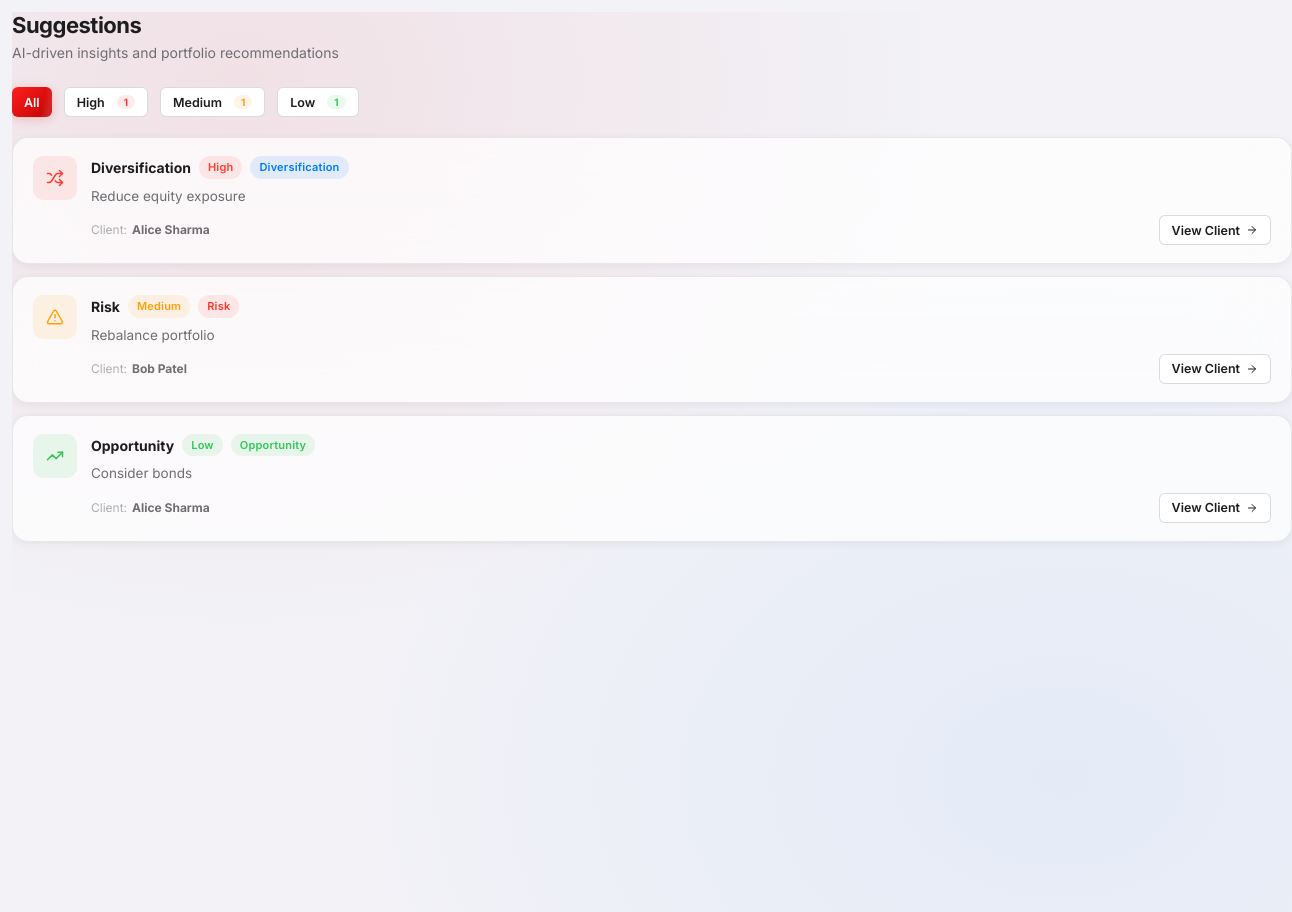
Test: SuggestionsPage — filter › shows all suggestions when All is selected
The width and height of the screenshot is (1292, 912).
What coordinates should you click on to do the following:
click the button "High 1"
I would click on:
 (106, 102)
Its box is [64,87,148,117].
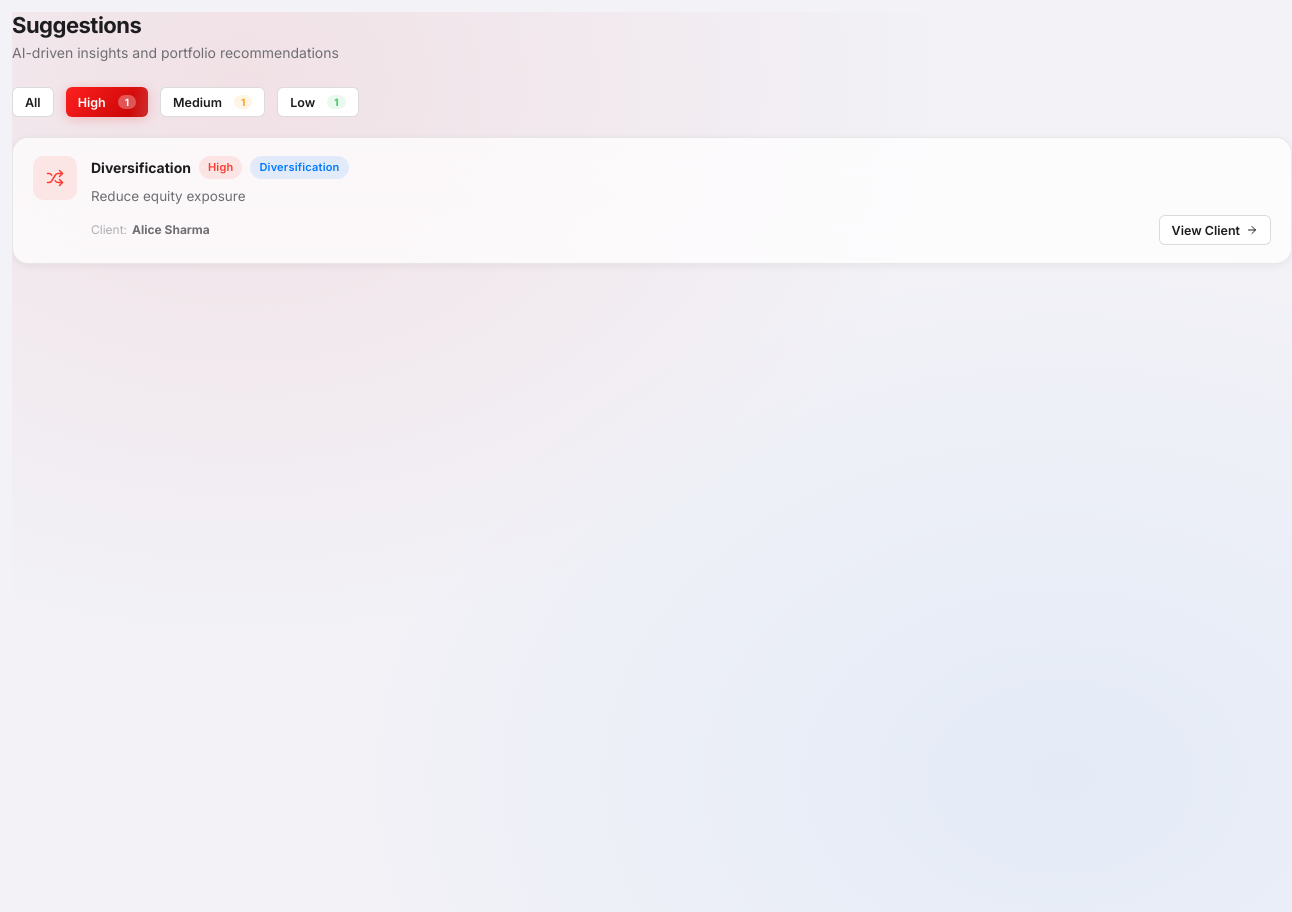
What coordinates should you click on to do the following:
click the button "All"
I would click on:
 (33, 102)
Its box is [12,87,54,117].
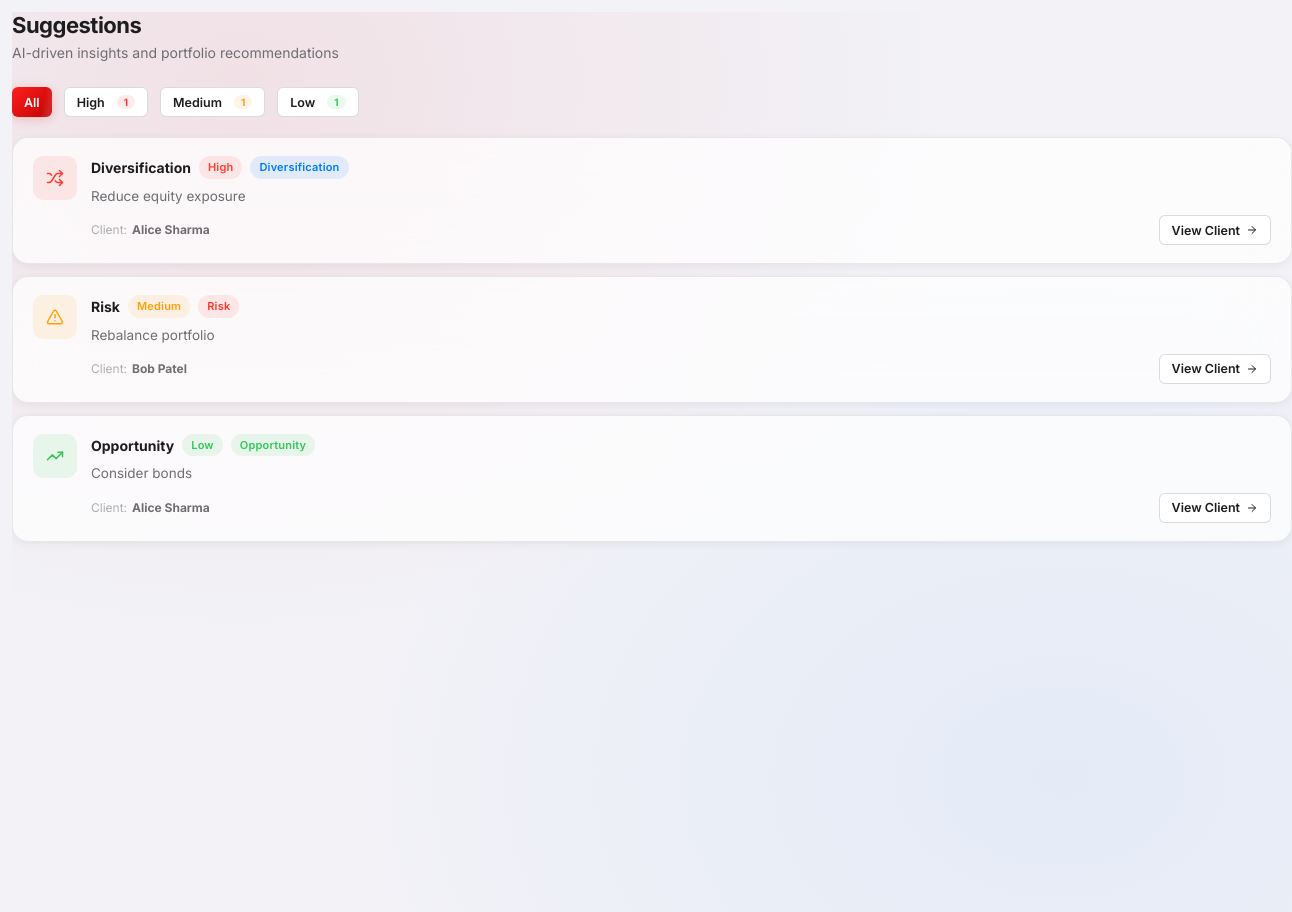
Expected: the text "Reduce equity exposure" is shown, [91,188,246,204]
Expected: the text "Rebalance portfolio" is shown, [91,327,215,343]
Expected: the text "Consider bonds" is shown, [91,465,192,481]
